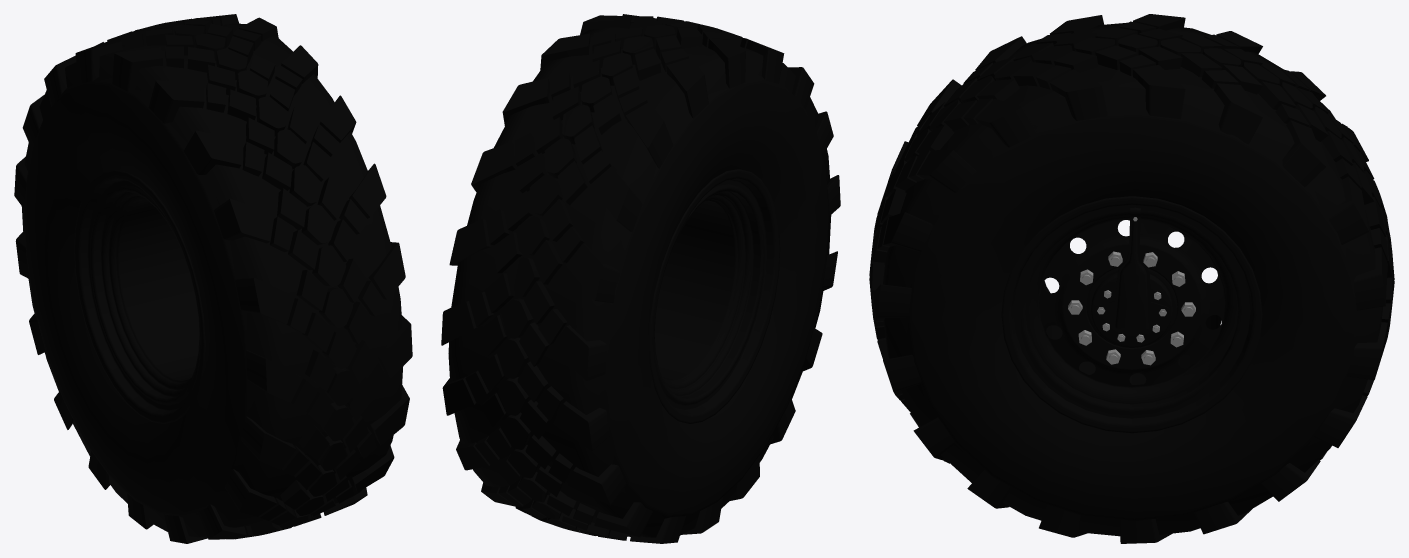
File: ruedas.obj
3 views of the same model, side by side, from view 1: azimuth 30°, elevation 25°; view 2: azimuth 150°, elevation 25°; view 3: azimuth 270°, elevation 25° (orthographic).
Visible parts, largest first — view 1: Plane.043, Plane.042, Circle; view 2: Plane.043, Plane.042, Circle; view 3: Plane.043, Plane.042, Circle, Plane.044, Circle.060.
Boxes of the visible parts, box(x1,y1,x2,y2) form: Plane.043: box(21, 23, 403, 537); Plane.042: box(14, 14, 412, 543); Circle: box(74, 170, 205, 423); Plane.043: box(448, 22, 831, 537); Plane.042: box(441, 14, 840, 543); Circle: box(649, 169, 780, 423); Plane.043: box(883, 22, 1382, 536); Plane.042: box(869, 14, 1394, 543); Circle: box(1001, 196, 1262, 433); Plane.044: box(1095, 207, 1170, 329); Circle.060: box(1068, 251, 1195, 365).
Size of the model in its own units: 0.4529 by 1.2 by 1.2.
